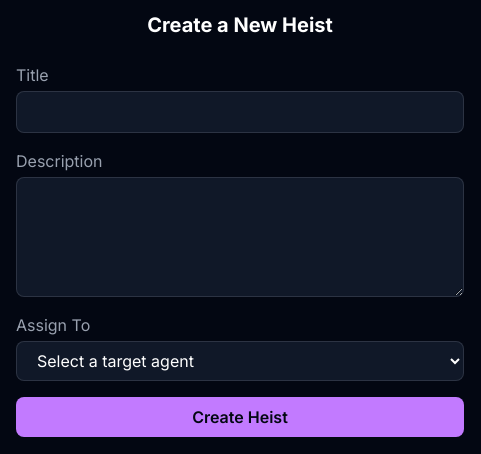
it: CreateHeistPage › disables the submit button while submitting
The image size is (481, 454).
In the field labelled "Title": [240, 112] box [16,91,464,133], type "Test"
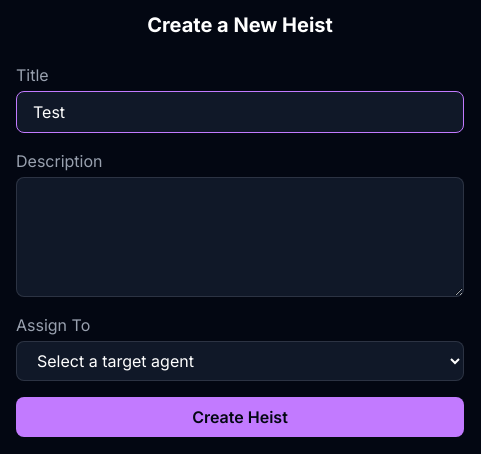
In the text box labelled "Description": [240, 237] box [16,177,464,297], type "Test desc"
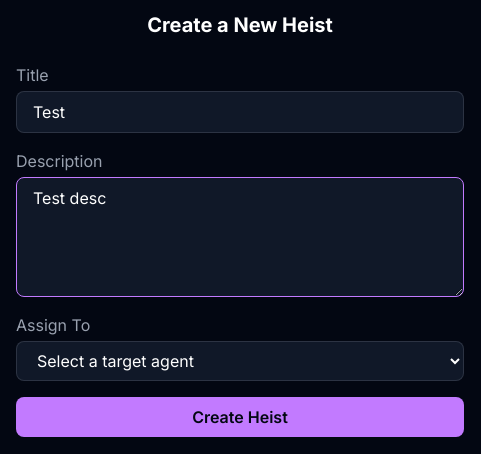
Select "NeonViper" in the dropdown labelled "Assign To": [240, 361] box [16,341,464,381]
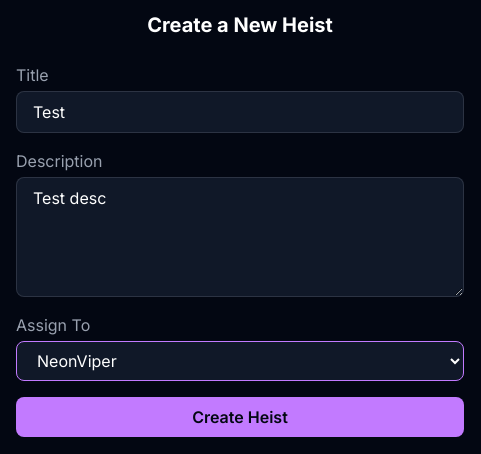
Click the button "Create Heist": [240, 417] box [16,397,464,437]
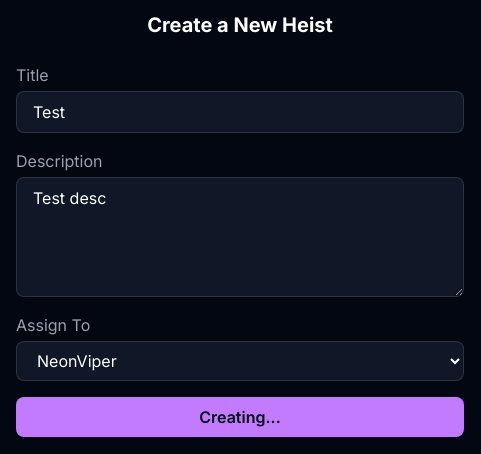
Expected: the button "Creating..." is disabled, [16,397,464,437]
